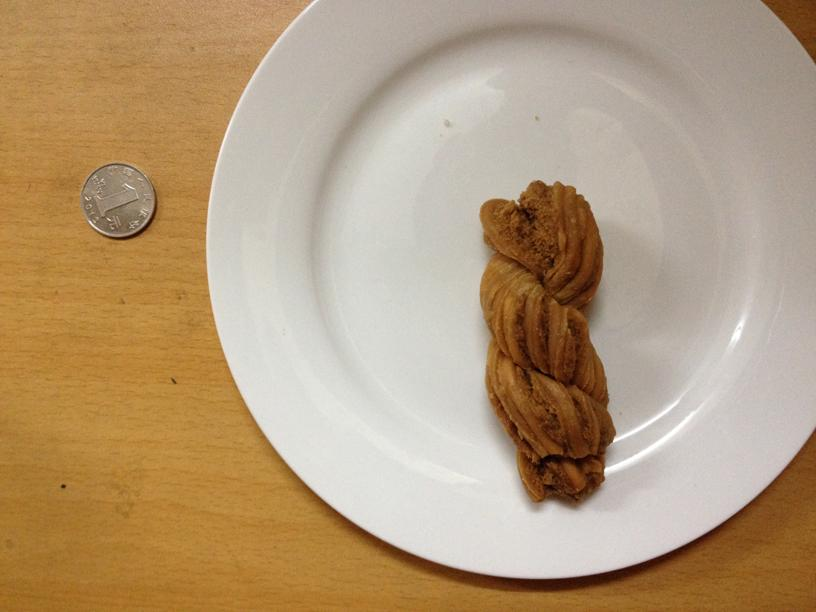coin: (81, 160, 154, 238)
fired_dough_twist: (475, 187, 614, 499)
